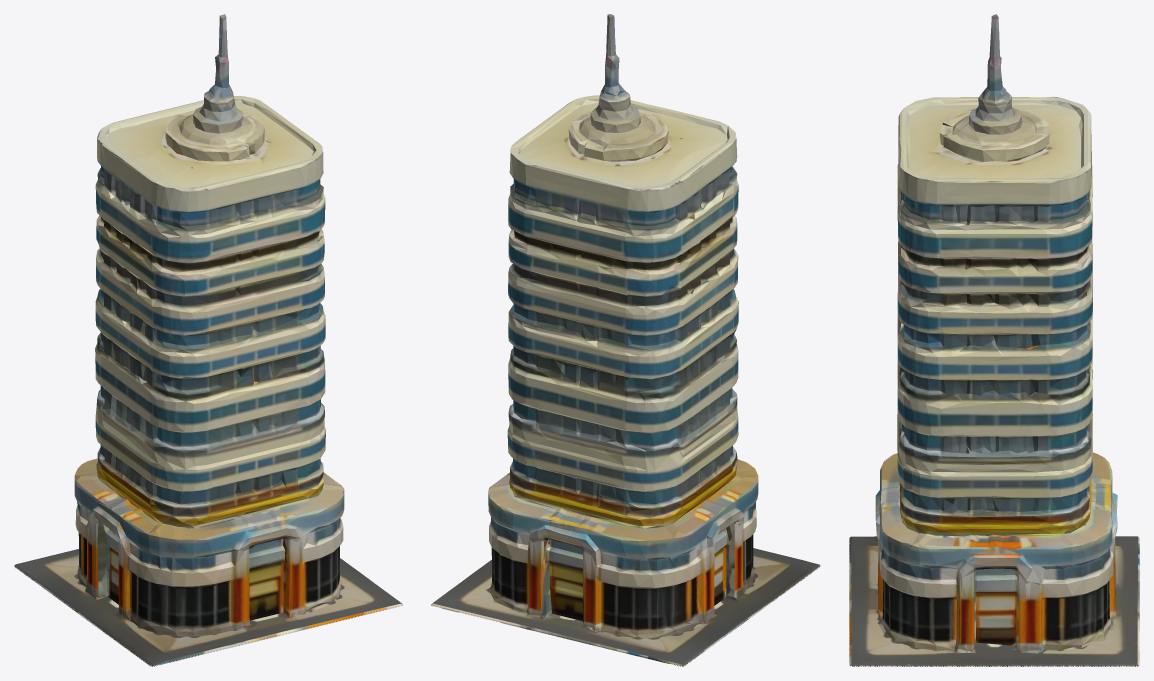
Rendered from office.glb.
3 renders of one model, left to right at view 1: azimuth 30°, elevation 25°; view 2: azimuth 150°, elevation 25°; view 3: azimuth 270°, elevation 25°, orthographic. The views are drawn at different scales.
Visible parts, largest first — view 1: figure; view 2: figure; view 3: figure.
Boxes of the visible parts, x1,y1,x2,y2 form: figure: (14, 14, 402, 666); figure: (431, 14, 820, 666); figure: (849, 14, 1139, 666).
Bounding box in the file's own units: 0.467 × 1 × 0.4426.
Materials: 1 (1 with a texture image).
